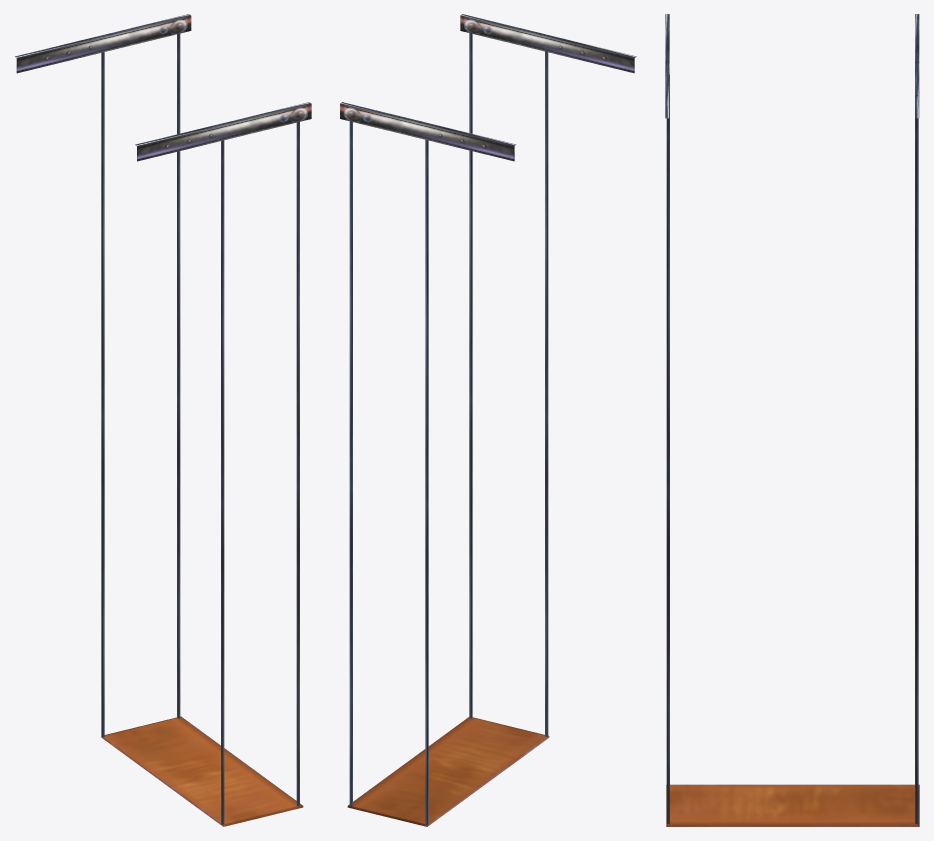
3 views of the same model, side by side, from view 1: azimuth 30°, elevation 25°; view 2: azimuth 150°, elevation 25°; view 3: azimuth 270°, elevation 25° (orthographic). The views are drawn at different scales.
Visible parts, largest first — view 1: Box09; view 2: Box09; view 3: Box09.
Boxes of the visible parts, x1,y1,x2,y2 form: Box09: [15, 14, 311, 826]; Box09: [340, 14, 636, 826]; Box09: [665, 14, 919, 826].
Bounding box in the file's own units: 577 × 2217 × 702.
Materials: 2 (2 with a texture image).
